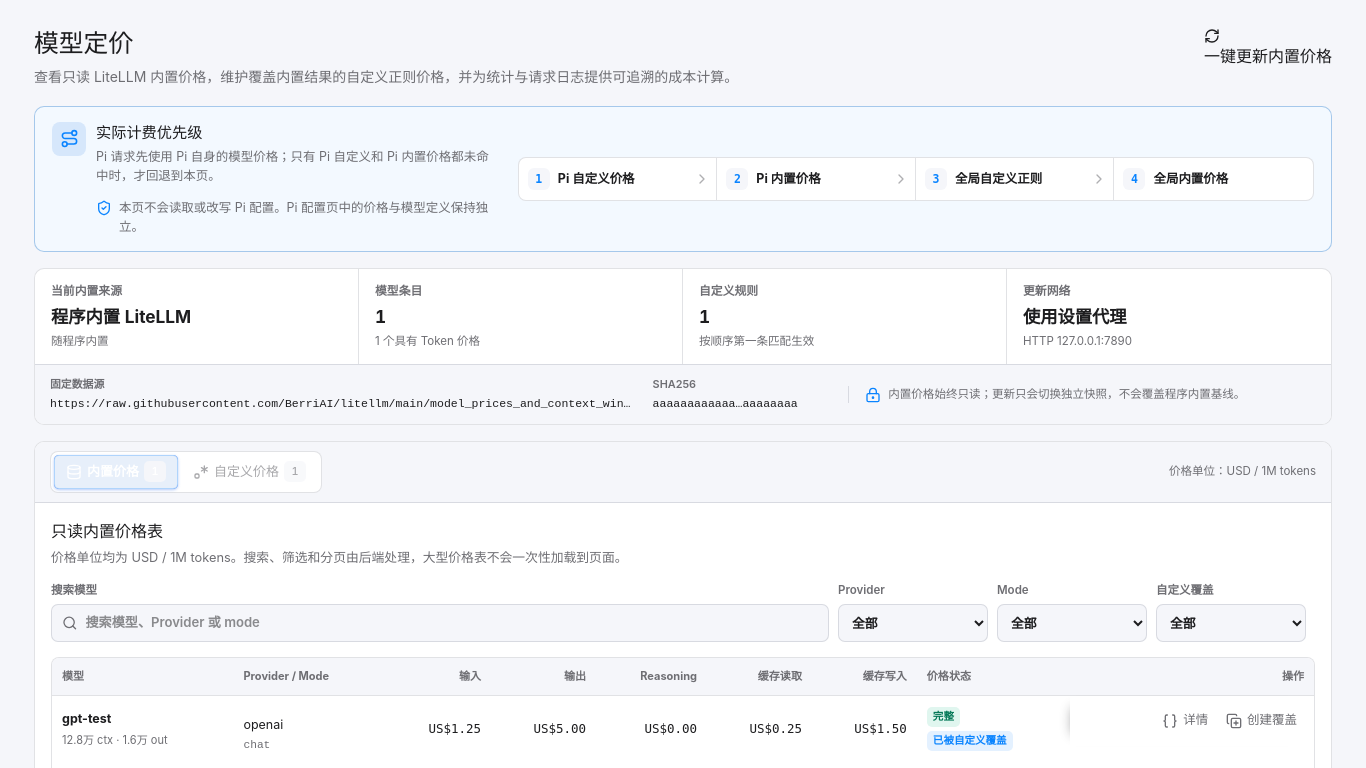
it: 模型定价页 › 存在搜索或筛选条件时可以一次清除
This screenshot has width=1366, height=768.
Type "GPT Test" into the search field labelled "搜索模型" at {"x": 452, "y": 623}, box [86, 613, 818, 633]
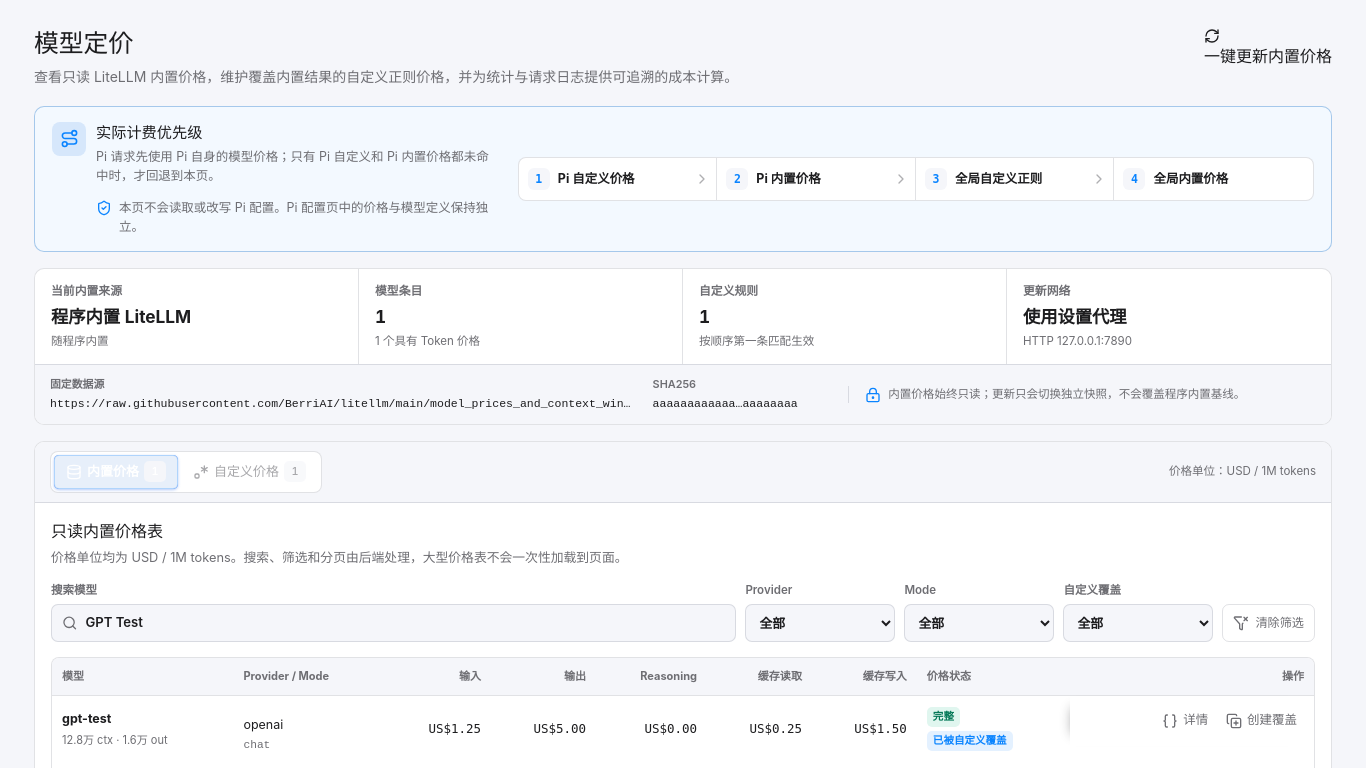
Select "openai" in the dropdown labelled "Provider" at {"x": 820, "y": 623}, box [745, 604, 895, 642]
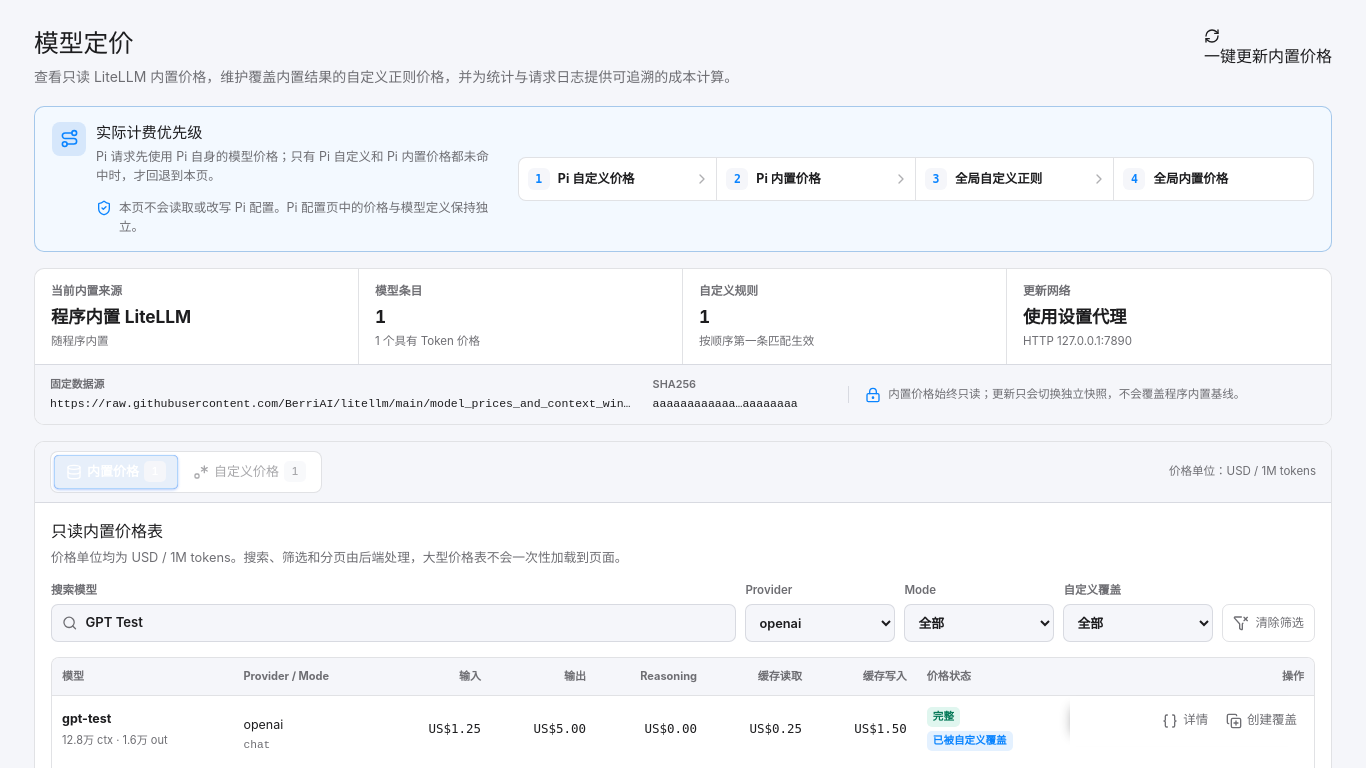
Now the button "清除筛选" is shown
Click the button "清除筛选" at {"x": 1269, "y": 623}, box [1222, 604, 1315, 642]
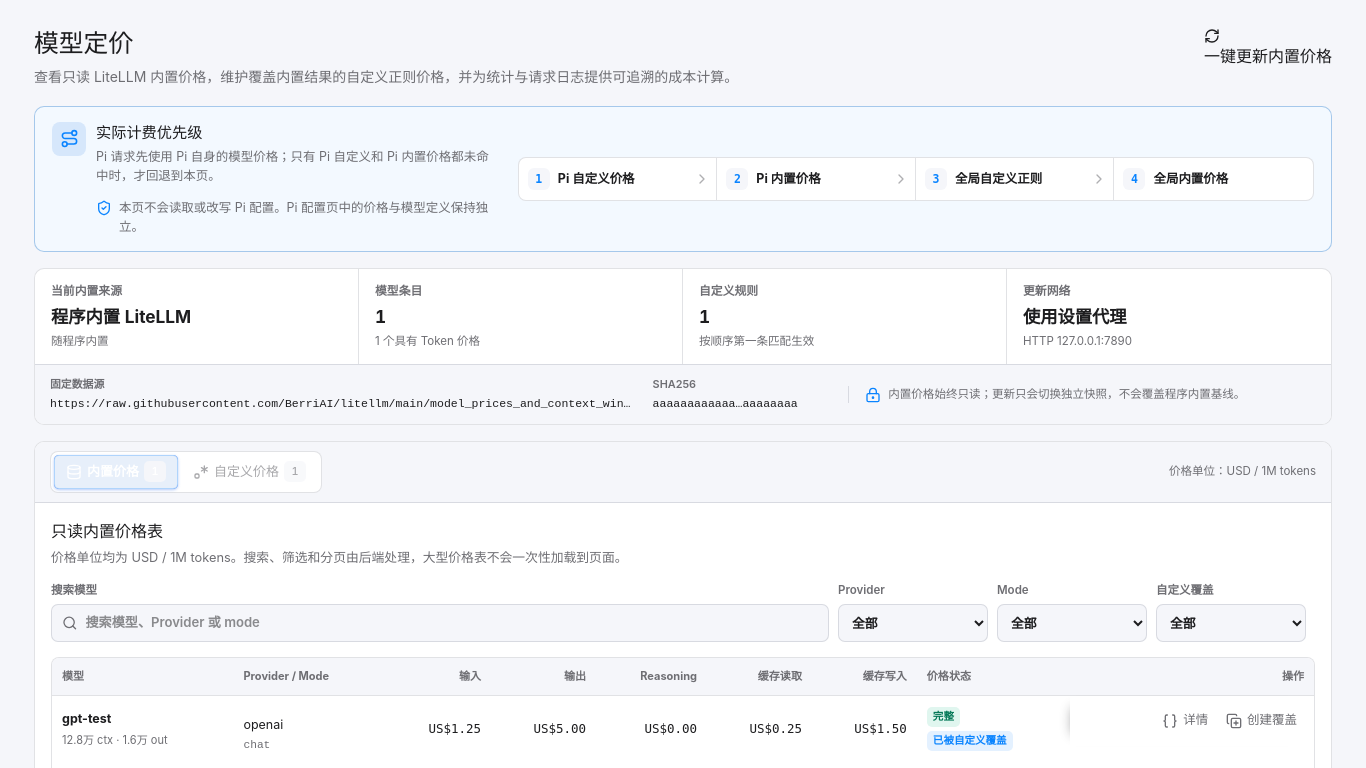
Now the search field labelled "搜索模型" is empty, box [86, 613, 818, 633]
